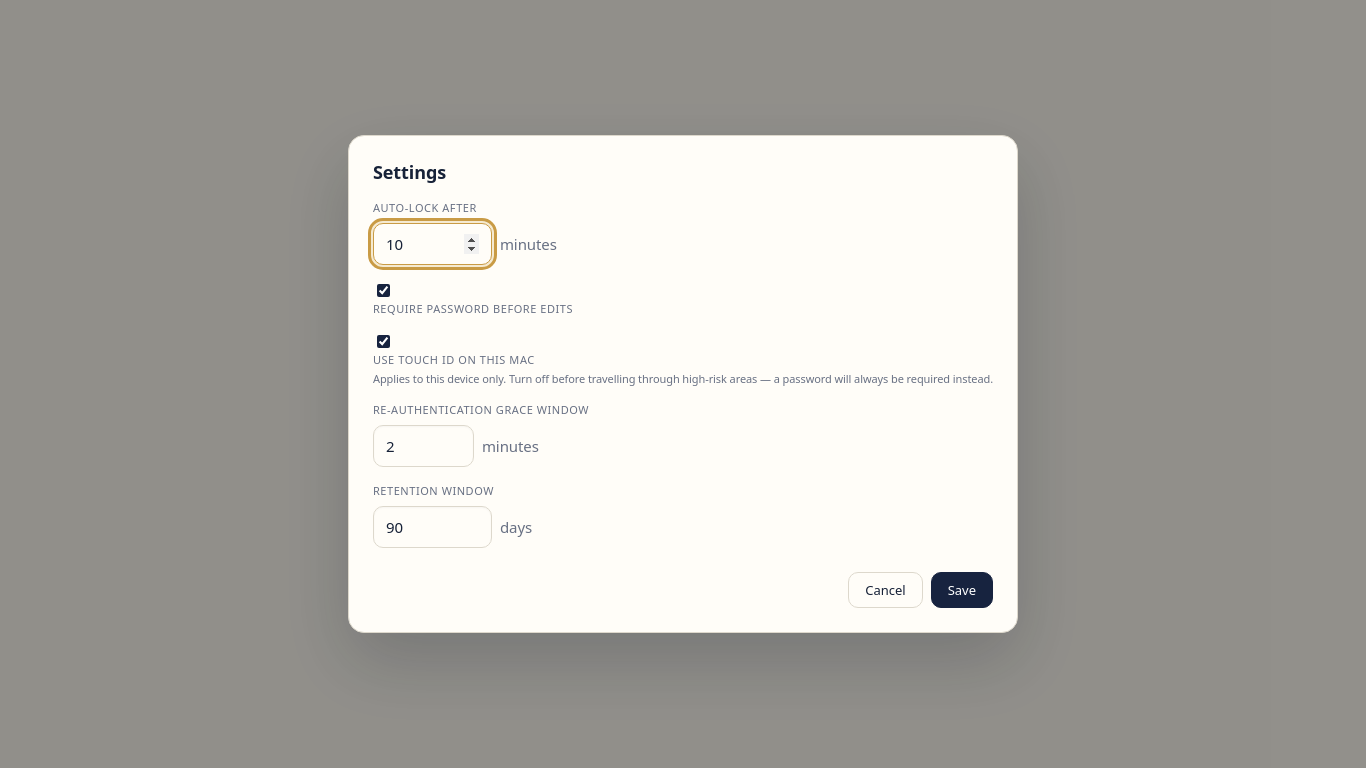
Test: SettingsDialog.svelte — Touch ID (biometric) toggle (#277) › pref-write rejection still surfaces the error when the vault settings also changed
Replace the text in the number field labelled "Auto-lock after minutes" with "5" at {"x": 432, "y": 244}, box [373,223,492,265]
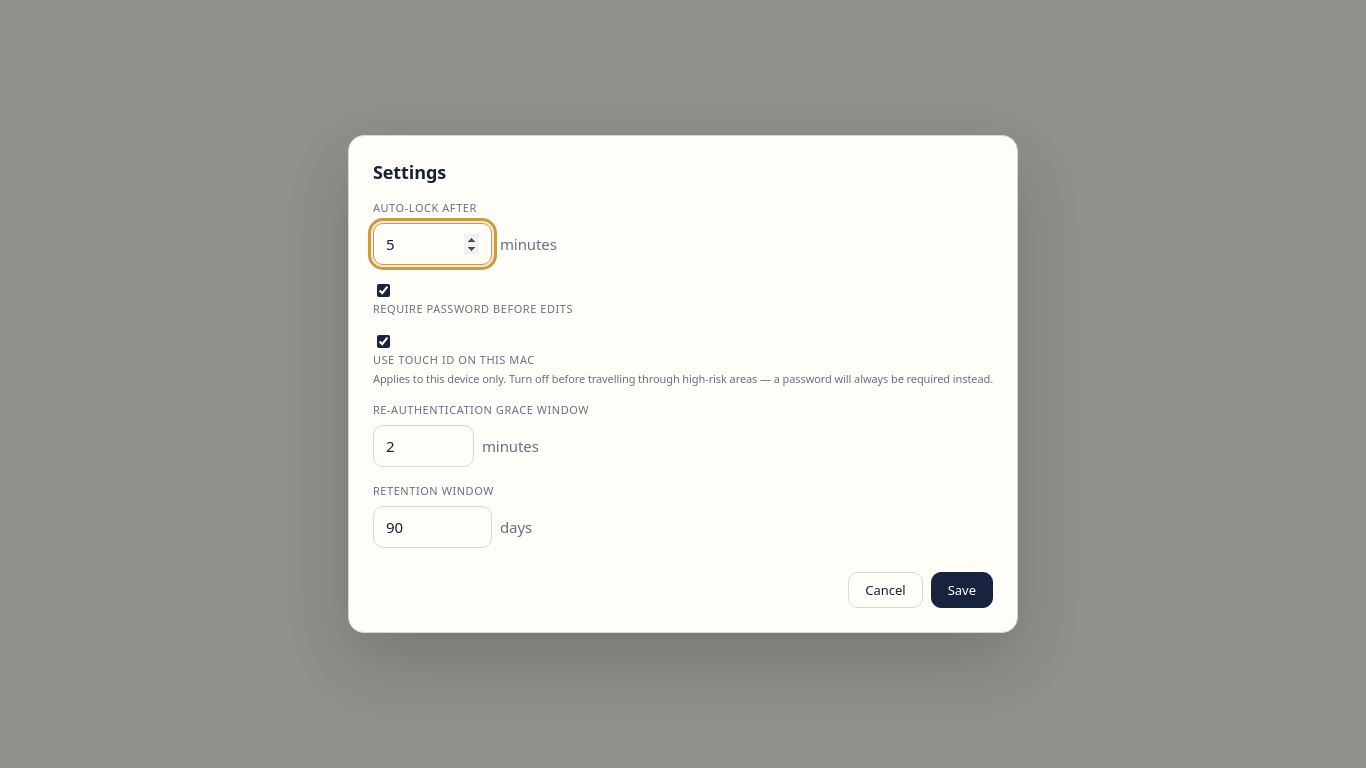
Click the checkbox labelled "Use Touch ID on this Mac".
click(383, 342)  # box [377,335,390,348]
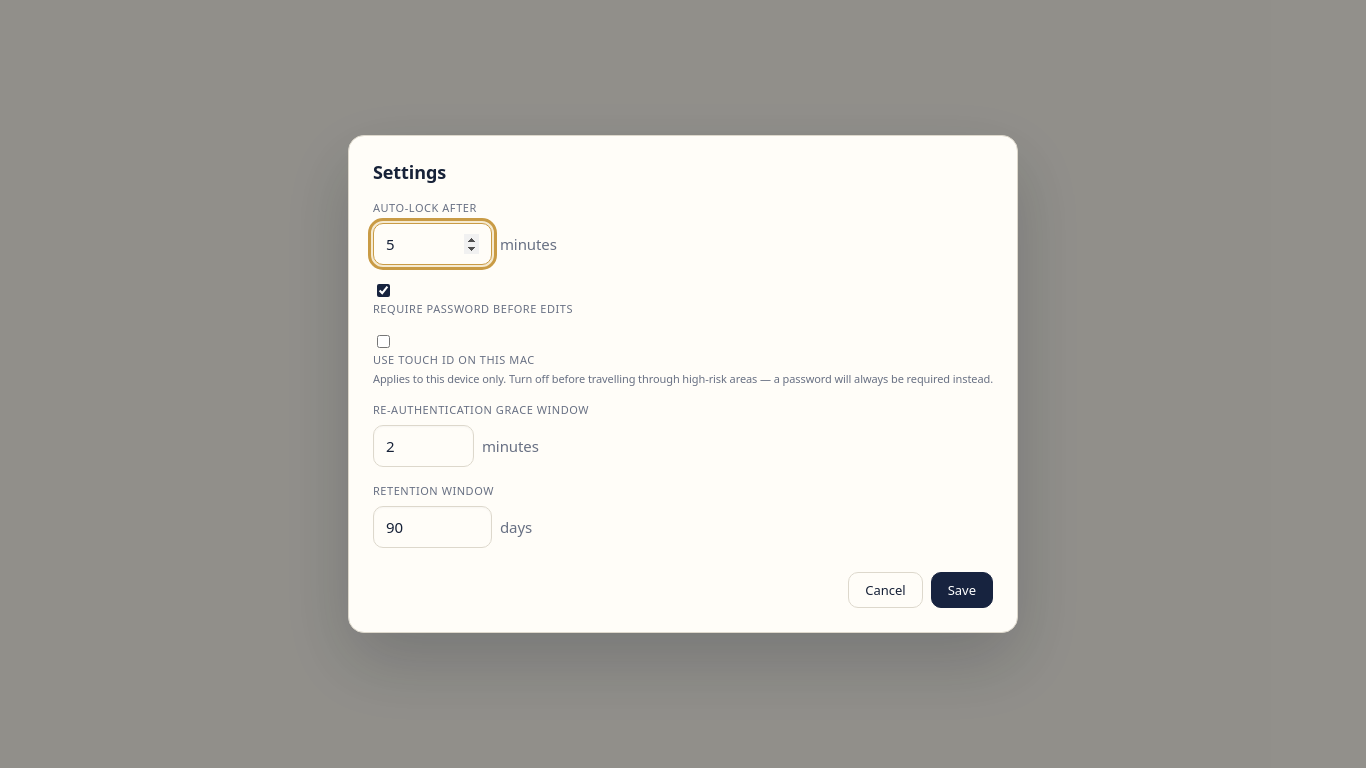
Click the button "Save".
click(962, 590)  # box [931,572,993,608]
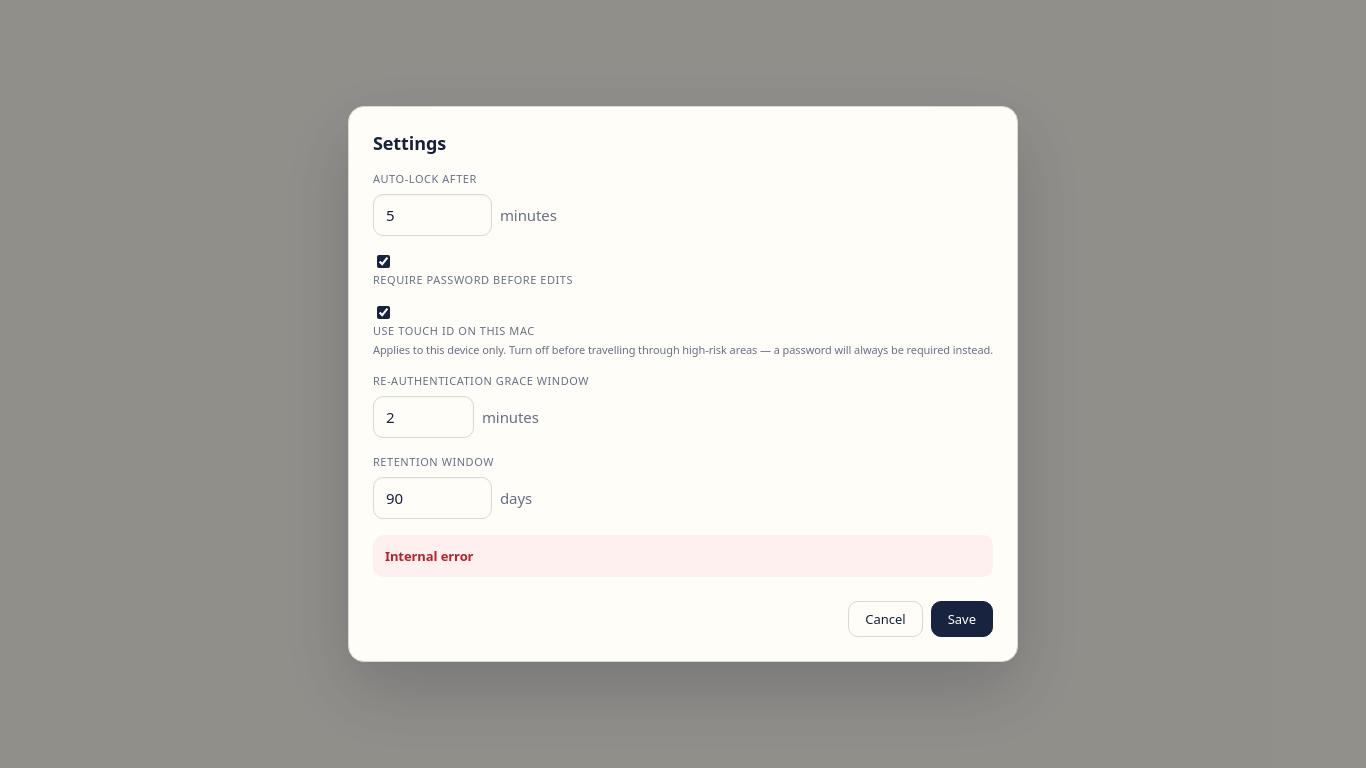
Expected: the text "Internal error" is shown, [385,547,473,565]
